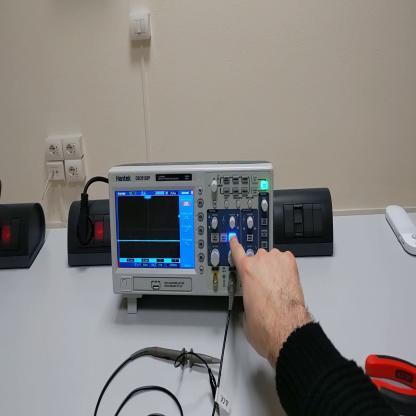hand: (229, 228, 308, 365)
oscilloscope: (109, 159, 275, 313)
oscilloscope probe tip: (148, 342, 221, 373)
pliers: (366, 355, 416, 411)
socket: (2, 203, 49, 277), (70, 203, 111, 268)
